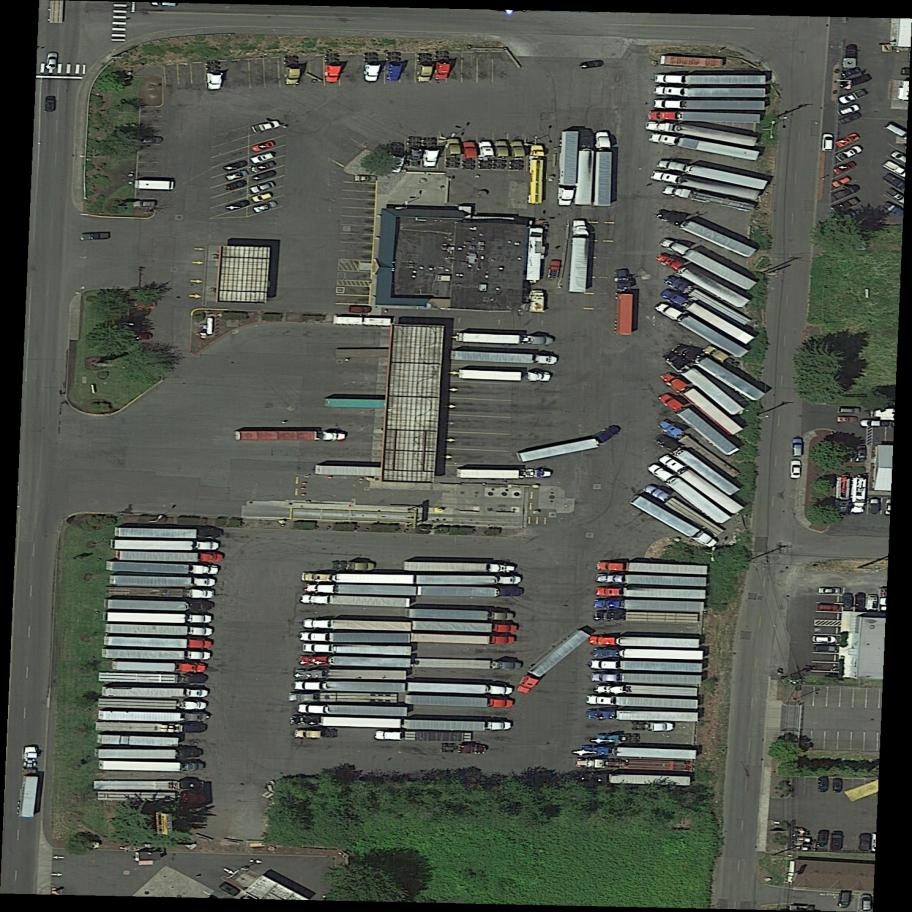large-vehicle: (653, 432, 742, 500), (654, 250, 751, 311), (659, 369, 742, 440), (654, 300, 749, 362), (660, 286, 755, 348), (663, 348, 745, 419), (645, 461, 731, 528), (657, 451, 744, 517), (658, 235, 757, 293), (675, 341, 765, 404), (657, 390, 739, 459), (657, 416, 741, 483), (514, 627, 593, 697), (653, 207, 757, 260), (664, 271, 752, 331), (630, 493, 720, 550), (642, 481, 725, 539), (513, 422, 626, 464), (657, 159, 769, 191), (648, 131, 761, 161), (647, 119, 759, 149), (651, 171, 761, 201), (663, 184, 754, 213), (579, 745, 698, 760), (599, 561, 708, 576), (18, 746, 40, 819), (558, 131, 579, 207), (106, 561, 219, 575), (451, 351, 556, 366), (588, 696, 699, 710), (300, 594, 411, 608), (581, 773, 691, 787), (590, 635, 700, 649), (405, 695, 514, 709), (103, 636, 212, 650), (97, 791, 205, 805), (304, 618, 412, 632), (110, 575, 217, 589), (578, 759, 693, 772), (408, 609, 514, 623), (413, 621, 518, 635), (106, 598, 211, 612), (297, 704, 409, 717), (302, 572, 414, 585), (306, 584, 417, 597), (651, 110, 761, 123), (97, 672, 207, 685), (570, 220, 589, 294), (106, 624, 214, 637), (414, 658, 521, 671), (103, 687, 209, 700), (456, 332, 554, 346), (417, 585, 522, 598), (407, 682, 512, 695), (108, 586, 213, 599), (294, 681, 406, 693), (299, 632, 411, 644), (588, 710, 699, 722), (591, 673, 702, 685), (97, 722, 208, 734), (291, 716, 401, 728), (301, 656, 411, 668), (302, 644, 412, 656), (597, 587, 707, 599), (405, 562, 514, 574), (596, 600, 705, 612), (111, 540, 220, 552), (102, 649, 211, 661), (458, 369, 551, 383), (113, 527, 220, 539), (291, 692, 405, 703), (594, 684, 698, 696), (99, 761, 203, 773), (653, 99, 766, 110), (595, 612, 698, 624), (591, 661, 703, 672), (654, 87, 766, 98), (596, 575, 707, 586), (236, 431, 347, 442), (594, 649, 704, 660), (616, 268, 634, 335), (596, 132, 612, 207), (99, 711, 208, 722), (98, 699, 207, 710), (105, 612, 214, 623), (404, 720, 512, 731), (95, 748, 202, 759), (117, 551, 222, 562), (577, 130, 592, 206), (413, 634, 515, 645), (655, 75, 767, 85), (93, 781, 203, 791), (296, 670, 406, 680), (112, 662, 206, 673), (375, 731, 473, 741), (529, 144, 545, 204), (417, 576, 523, 585), (457, 469, 551, 479), (835, 477, 853, 515), (853, 477, 869, 515)
small-vehicle: (829, 181, 864, 203), (832, 142, 865, 165), (836, 72, 873, 91), (881, 170, 910, 193), (836, 87, 869, 107), (881, 158, 910, 180), (834, 129, 863, 151), (831, 158, 861, 178), (883, 121, 911, 142), (883, 185, 909, 206), (250, 118, 282, 135), (251, 198, 281, 216), (836, 109, 864, 128), (881, 199, 907, 219), (249, 159, 278, 176), (249, 179, 278, 196), (223, 198, 252, 214), (223, 168, 252, 184), (222, 158, 250, 174), (250, 169, 278, 184), (222, 178, 250, 193), (250, 139, 278, 154), (836, 888, 854, 911), (829, 174, 853, 191), (859, 418, 895, 429), (888, 147, 910, 165), (249, 151, 275, 166), (577, 58, 606, 71), (250, 190, 275, 205), (80, 230, 111, 242), (829, 830, 845, 852), (815, 827, 831, 849), (837, 103, 862, 117), (45, 49, 60, 72), (791, 437, 806, 458), (858, 832, 873, 852), (810, 634, 837, 645), (866, 593, 880, 613), (817, 602, 842, 613), (821, 132, 834, 153), (854, 592, 868, 611), (813, 644, 839, 654), (790, 459, 802, 480), (860, 893, 873, 912), (842, 66, 862, 78), (43, 96, 57, 113), (868, 497, 881, 515), (817, 586, 843, 595), (817, 775, 830, 793), (842, 592, 854, 611), (835, 415, 860, 424), (837, 406, 862, 415), (348, 305, 373, 314), (132, 200, 158, 208), (141, 136, 164, 145), (832, 776, 843, 794), (149, 2, 179, 7), (884, 498, 891, 516)
